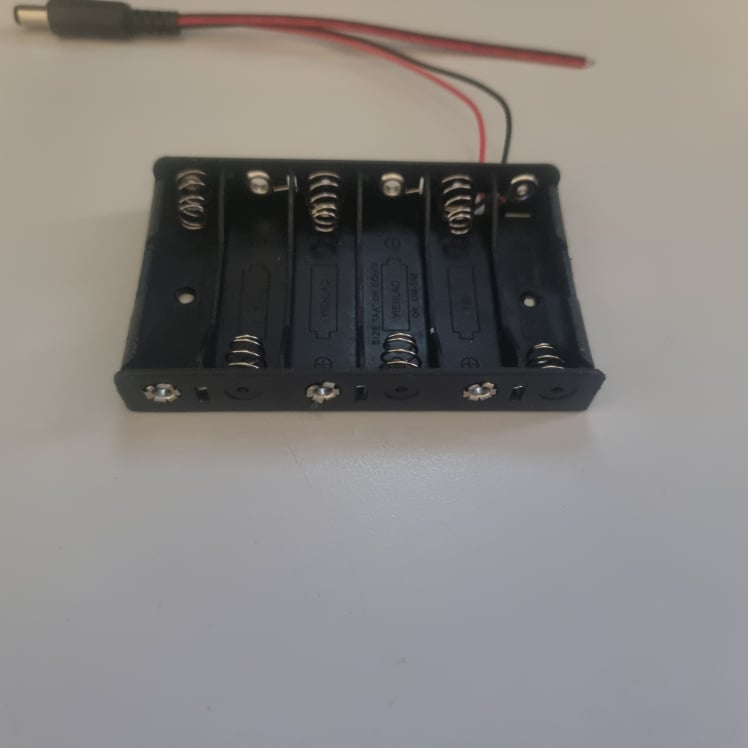BATTERY BOX: (112, 157, 608, 414)
